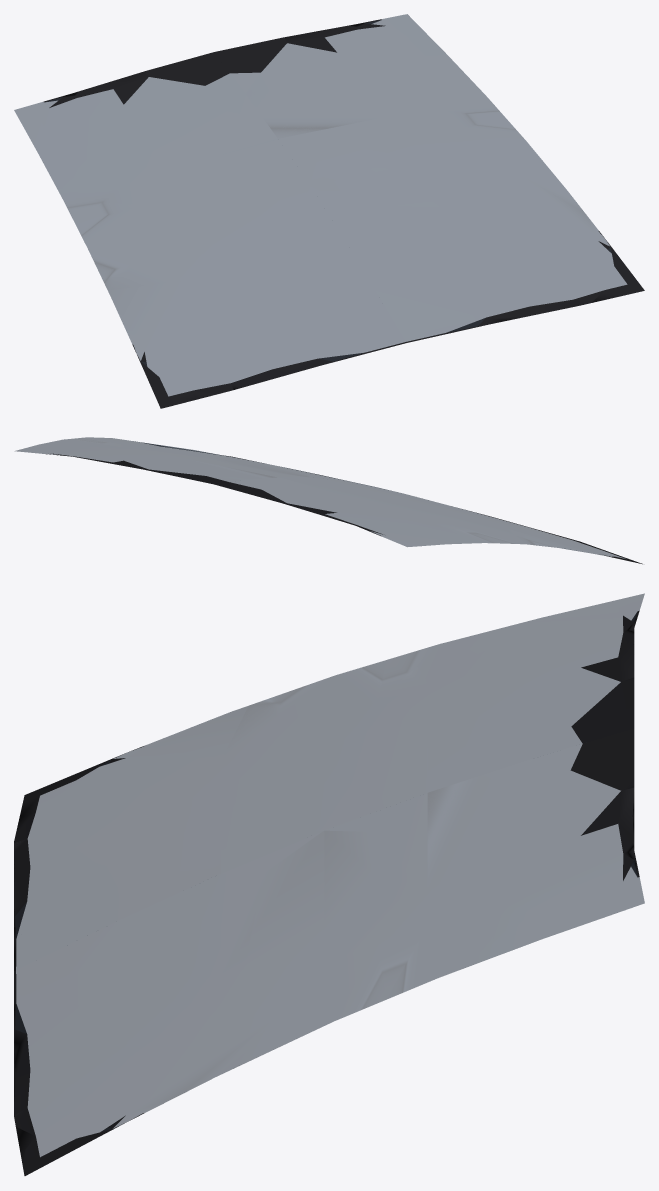
File: GEO_Rear_Glass.glb
3 views of the same model, one above another, from view 1: azimuth 30°, elevation 25°; view 2: azimuth 150°, elevation 25°; view 3: azimuth 270°, elevation 25° (orthographic). The views are drawn at different scales.
Visible parts, largest first — view 1: GEO_Rear_Glass; view 2: GEO_Rear_Glass; view 3: GEO_Rear_Glass.
Part boxes in pixels (x1,y1,x2,y2): GEO_Rear_Glass: (14,14,644,408); GEO_Rear_Glass: (15,437,642,564); GEO_Rear_Glass: (14,593,644,1175).
Bounding box in the file's own units: 1.28 × 0.4028 × 0.895.
